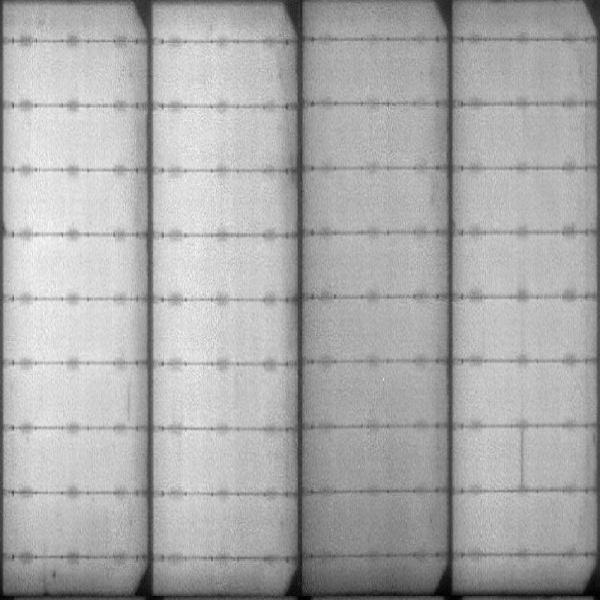scratch: (513, 422, 528, 487)
